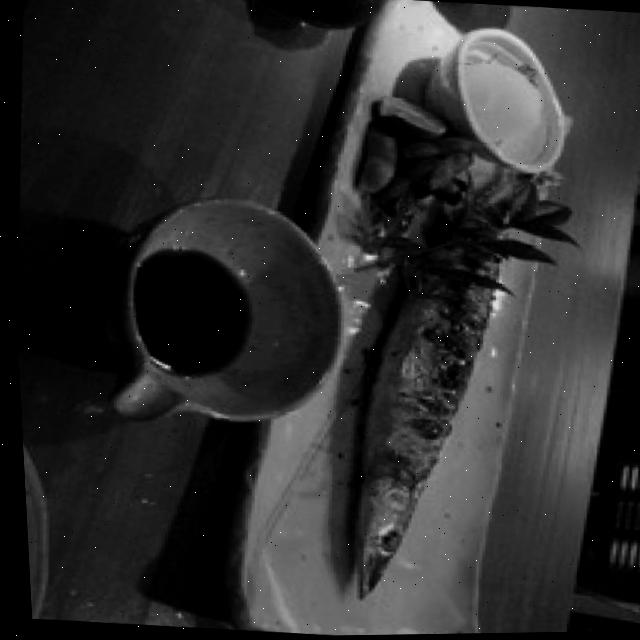熟制海鲜: (308, 112, 585, 636)
